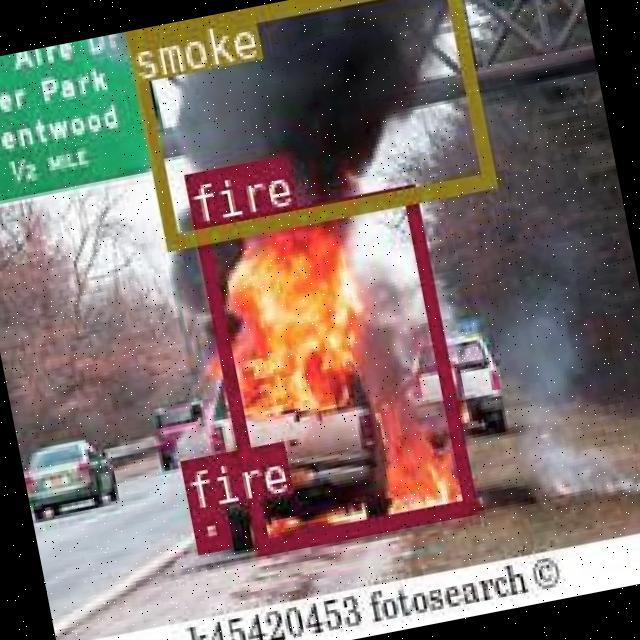fire: (193, 184, 474, 550), (188, 504, 228, 550)
smoke: (123, 0, 493, 249)
